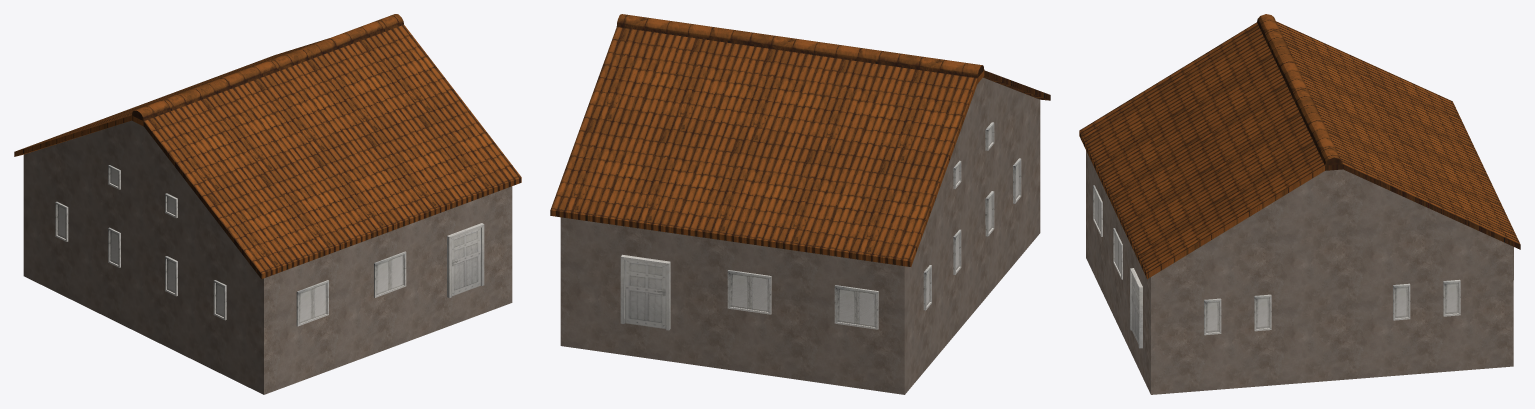
File: Casa_10.fbx
3 views of the same model, side by side, from view 1: azimuth 30°, elevation 25°; view 2: azimuth 150°, elevation 25°; view 3: azimuth 270°, elevation 25° (orthographic). The views are drawn at different scales.
Visible parts, largest first — view 1: Casa_10; view 2: Casa_10; view 3: Casa_10.
Boxes of the visible parts, x1,y1,x2,y2 form: Casa_10: (14,14,521,394); Casa_10: (550,14,1050,394); Casa_10: (1079,14,1520,394).
Bounding box in the file's own units: 12.21 × 7.47 × 13.19.
